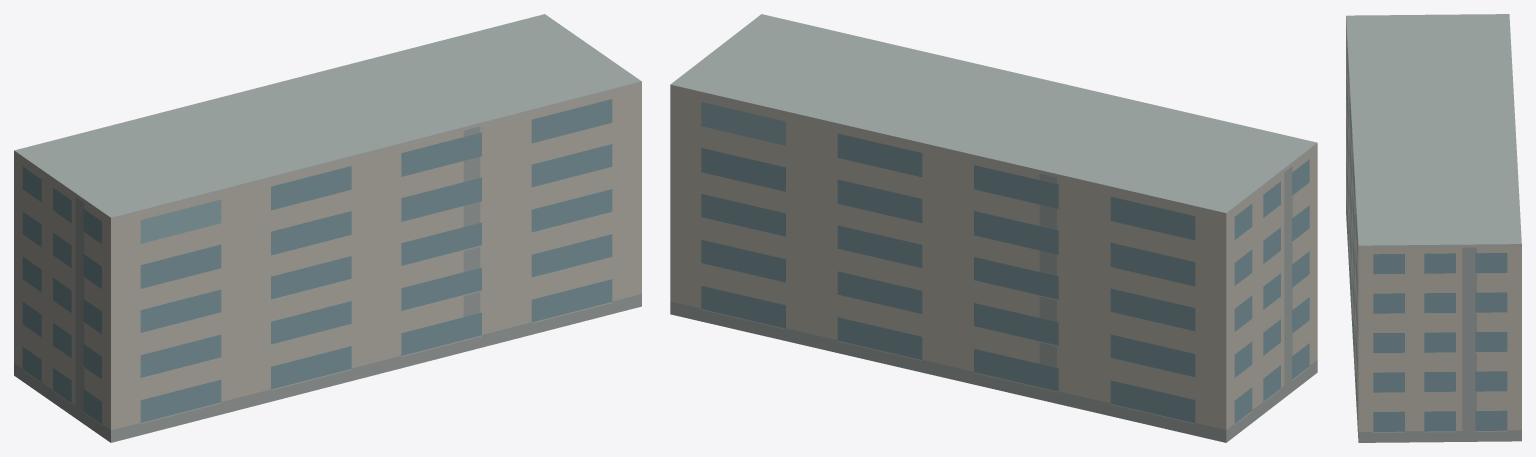
File: residential-02575b63-4191-429c-a3d6-785e61818e5e.glb
The picture shows the model from 3 angles, left to right: view 1: azimuth 30°, elevation 25°; view 2: azimuth 150°, elevation 25°; view 3: azimuth 270°, elevation 25°; orthographic projection. The views are drawn at different scales.
Parts seen in each view (by area): view 1: residential-02575b63-4191-429c-a3d6-785e61818e5e.tmp; view 2: residential-02575b63-4191-429c-a3d6-785e61818e5e.tmp; view 3: residential-02575b63-4191-429c-a3d6-785e61818e5e.tmp.
Part boxes in pixels (box(x1,y1,x2,y2)): residential-02575b63-4191-429c-a3d6-785e61818e5e.tmp: box(14, 14, 641, 442); residential-02575b63-4191-429c-a3d6-785e61818e5e.tmp: box(670, 14, 1317, 442); residential-02575b63-4191-429c-a3d6-785e61818e5e.tmp: box(1346, 14, 1521, 442).
Bounding box in the file's own units: 38.4 × 15.25 × 12.32.
